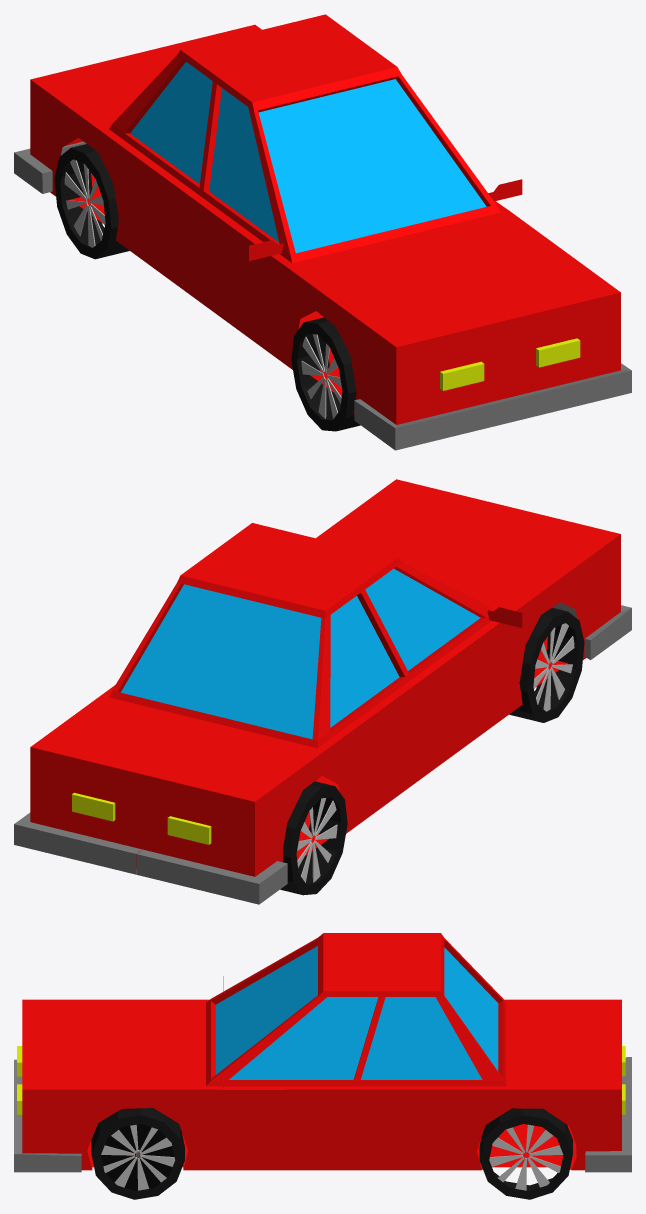
Rendered from Car.fbx.
3 views of the same model, one above another, from view 1: azimuth 30°, elevation 25°; view 2: azimuth 150°, elevation 25°; view 3: azimuth 270°, elevation 25° (orthographic). The views are drawn at different scales.
Visible parts, largest first — view 1: Chasis; view 2: Chasis; view 3: Chasis.
Part boxes in pixels (left/top/right/bottom): Chasis: left=14, top=14, right=631, bottom=450; Chasis: left=14, top=479, right=631, bottom=904; Chasis: left=14, top=933, right=631, bottom=1199.
Size of the model in its own units: 206 by 167 by 491.
Materials: 1 (1 with a texture image).
